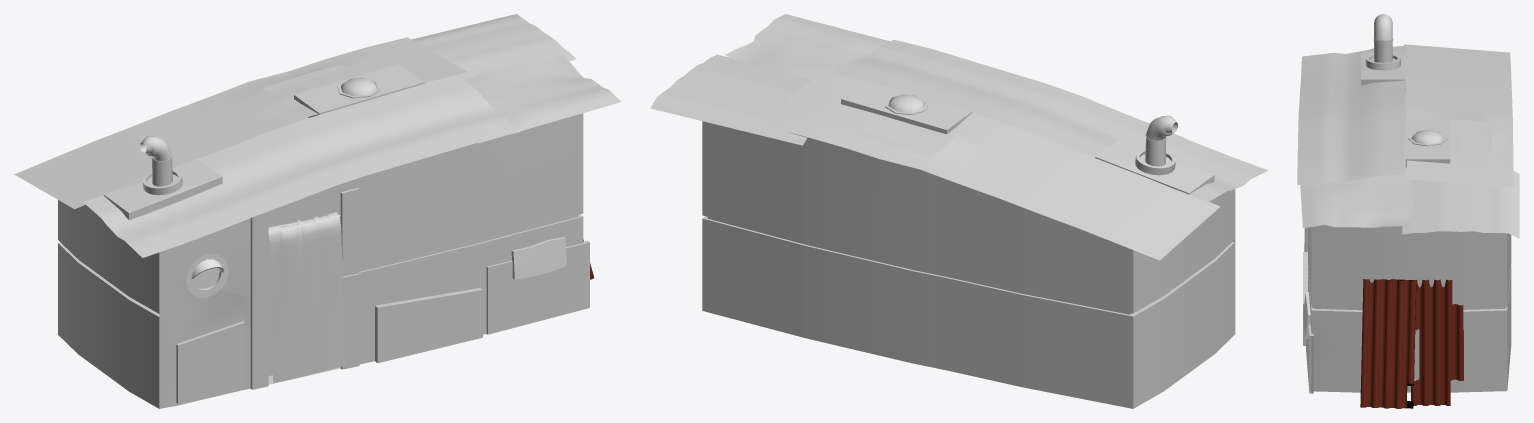
File: House2.fbx
3 renders of one model, left to right at view 1: azimuth 30°, elevation 25°; view 2: azimuth 150°, elevation 25°; view 3: azimuth 270°, elevation 25°, orthographic. The views are drawn at different scales.
Visible parts, largest first — view 1: Box005, Plane001, Plane002, ClothHus7, Plane003, Plane004, Box006, caps_047; view 2: Box005, Plane002, Plane001, Plane004, Plane003; view 3: Box005, Plane002, Plane001, TagpladeståendeAlene2, Plane004, Plane003, TagpladeStående, Box006.
Part boxes in pixels (bbox=[...]): Box005: bbox=[58, 64, 589, 408]; Plane001: bbox=[83, 75, 519, 257]; Plane002: bbox=[14, 37, 467, 209]; ClothHus7: bbox=[268, 211, 344, 383]; Plane003: bbox=[464, 55, 621, 142]; Plane004: bbox=[412, 14, 576, 83]; Box006: bbox=[511, 237, 566, 279]; caps_047: bbox=[186, 254, 228, 297]; Box005: bbox=[702, 43, 1235, 408]; Plane002: bbox=[760, 71, 1220, 260]; Plane001: bbox=[833, 39, 1268, 201]; Plane004: bbox=[650, 54, 810, 145]; Plane003: bbox=[725, 14, 889, 84]; Box005: bbox=[1303, 14, 1511, 393]; Plane002: bbox=[1403, 44, 1513, 187]; Plane001: bbox=[1297, 45, 1406, 185]; TagpladeståendeAlene2: bbox=[1360, 279, 1416, 408]; Plane004: bbox=[1402, 171, 1519, 238]; Plane003: bbox=[1300, 165, 1415, 227]; TagpladeStående: bbox=[1411, 279, 1463, 405]; Box006: bbox=[1303, 292, 1310, 338].
Bounding box in the file's own units: 805 × 370 × 351.
